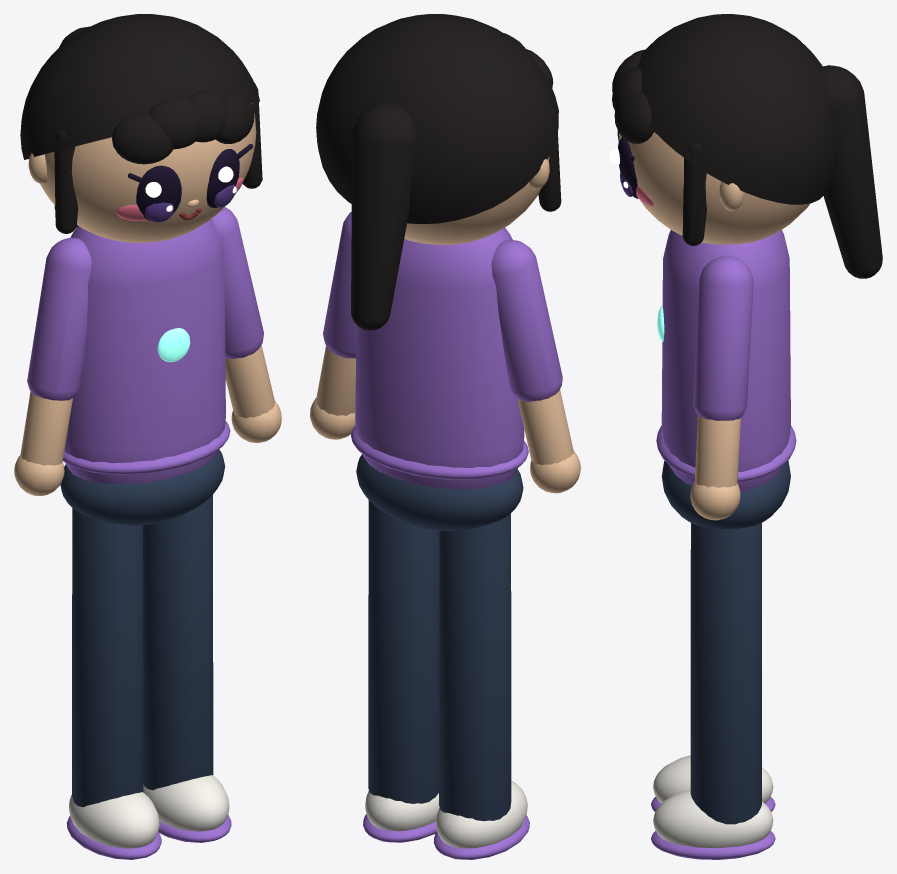
File: girl14.glb
3 views of the same model, side by side, from view 1: azimuth 30°, elevation 25°; view 2: azimuth 150°, elevation 25°; view 3: azimuth 270°, elevation 25° (orthographic).
Visible parts, largest first — view 1: girl14; view 2: girl14; view 3: girl14.
Part boxes in pixels (bbox=[...]): girl14: bbox=[14, 14, 281, 859]; girl14: bbox=[310, 14, 580, 859]; girl14: bbox=[609, 14, 882, 859].
Size of the model in its own units: 0.5513 by 1.63 by 0.5.
